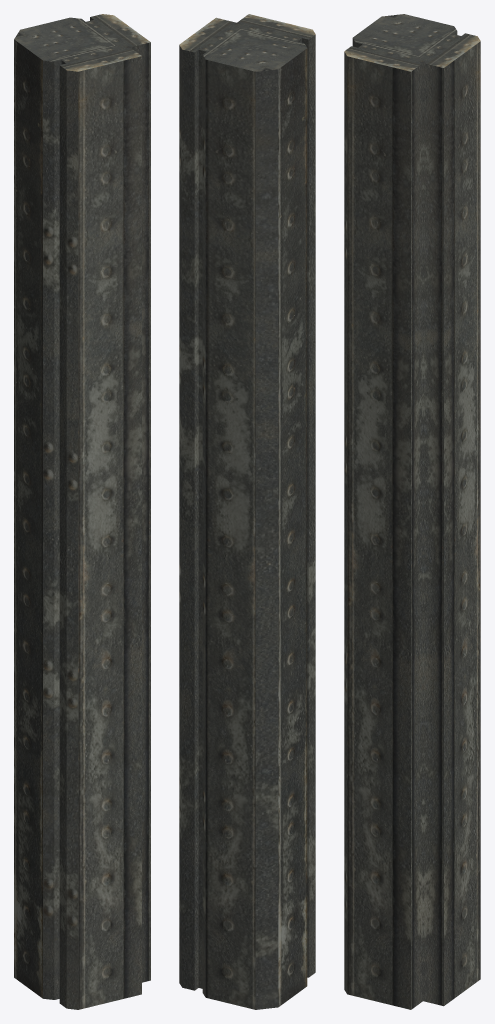
Rendered from Kit_IronColumn_2.fbx.
The picture shows the model from 3 angles, left to right: view 1: azimuth 30°, elevation 25°; view 2: azimuth 150°, elevation 25°; view 3: azimuth 330°, elevation 25°; orthographic projection.
Parts seen in each view (by area): view 1: Kit_IronColumn_2; view 2: Kit_IronColumn_2; view 3: Kit_IronColumn_2.
Boxes of the visible parts, bbox=[...] form: Kit_IronColumn_2: bbox=[14, 14, 150, 1009]; Kit_IronColumn_2: bbox=[179, 14, 315, 1009]; Kit_IronColumn_2: bbox=[344, 14, 480, 1009].
Bounding box in the file's own units: 17.5 × 157 × 17.5.
